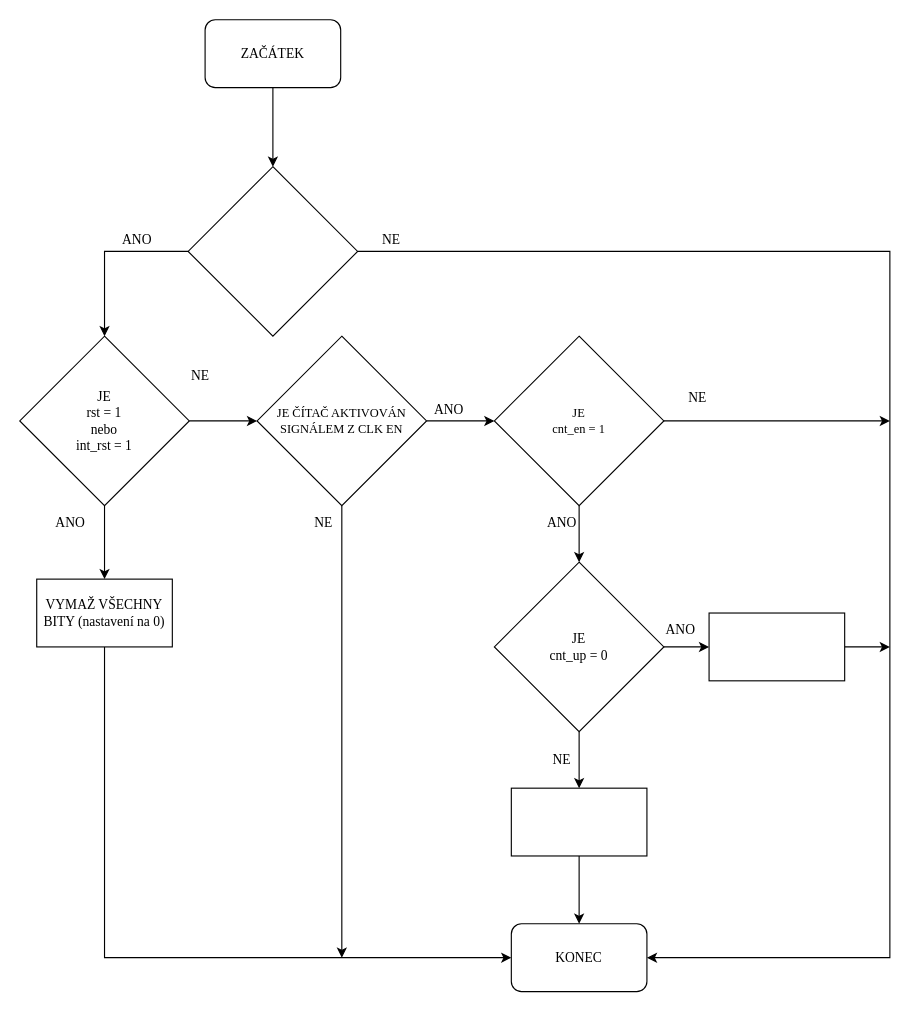
The diagram is 919 pixels wide and 1011 high, and some of its shapes have lost their labels. The shapes that lost their labels are listed below. From the top down, each one's box as (x1, y1, x2, y2) in pixels, then its label:
(187, 166, 358, 336): JE ČASOVACÍ SIGNÁL NA NÁSTUPNÍ HRANĚ
(708, 612, 845, 681): NASTAV sig_cnt = sig_cnt +1
(510, 787, 647, 856): NASTAV sig_cnt = sig_cnt -1
